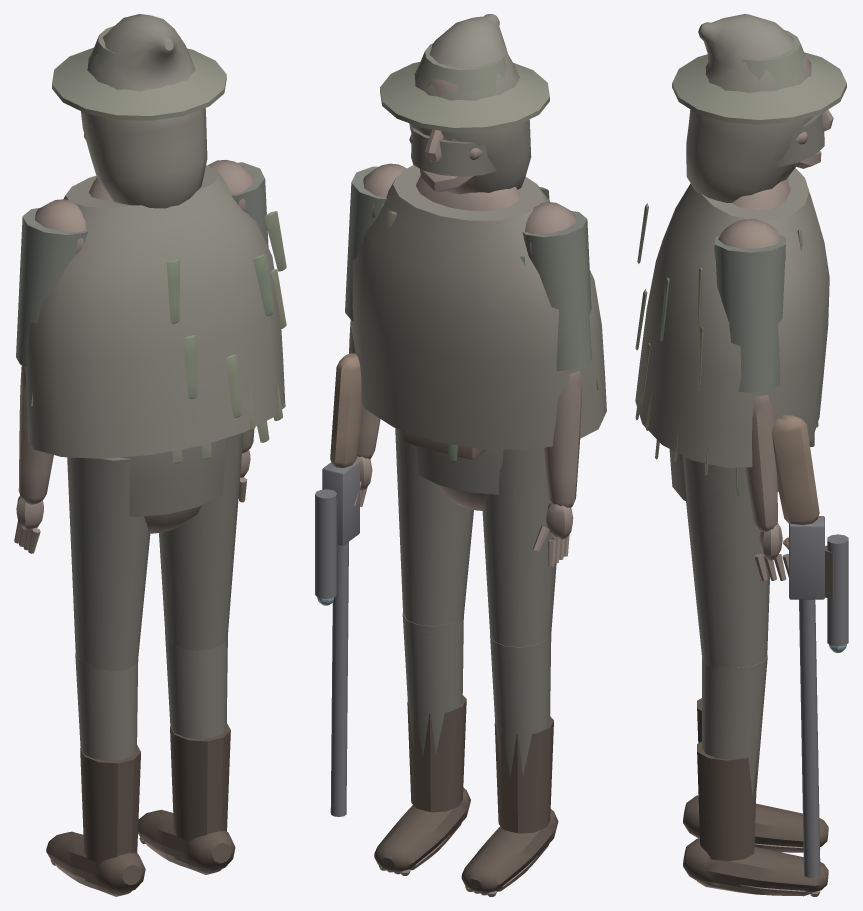
File: en_marksman.gltf
The picture shows the model from 3 angles, left to right: view 1: azimuth 30°, elevation 25°; view 2: azimuth 150°, elevation 25°; view 3: azimuth 270°, elevation 25°; orthographic projection. The views are drawn at different scales.
Visible parts, largest first — view 1: Spine, V1_Hood, ShinL, ShinR, LegL, LegR, V2_Boonie, Hips, V3_Ghillie, ArmL, ForeL, ArmR (+1 smaller); view 2: Spine, ShinL, ShinR, ForeR, LegL, LegR, V1_Hood, V2_Boonie, ArmL, ForeL, Hips, ArmR (+2 smaller); view 3: Spine, ForeR, ShinR, V1_Hood, LegR, V2_Boonie, ArmR, ShinL, V3_Ghillie, Hips, Head.
Boxes of the visible parts, x1=… form: Spine: x1=24, y1=160, x2=285, y2=458; V1_Hood: x1=81, y1=14, x2=207, y2=208; ShinL: x1=46, y1=653, x2=145, y2=896; ShinR: x1=138, y1=632, x2=235, y2=874; LegL: x1=67, y1=457, x2=150, y2=671; LegR: x1=159, y1=432, x2=243, y2=650; V2_Boonie: x1=52, y1=25, x2=226, y2=120; Hips: x1=120, y1=438, x2=225, y2=533; V3_Ghillie: x1=31, y1=211, x2=286, y2=463; ArmL: x1=16, y1=207, x2=87, y2=367; ForeL: x1=14, y1=365, x2=53, y2=553; ArmR: x1=231, y1=162, x2=268, y2=247; Spine: x1=350, y1=163, x2=606, y2=449; ShinL: x1=461, y1=633, x2=558, y2=896; ShinR: x1=374, y1=613, x2=470, y2=875; ForeR: x1=315, y1=322, x2=380, y2=816; LegL: x1=482, y1=448, x2=556, y2=658; LegR: x1=395, y1=428, x2=473, y2=637; V1_Hood: x1=409, y1=14, x2=531, y2=192; V2_Boonie: x1=380, y1=43, x2=549, y2=132; ArmL: x1=522, y1=211, x2=592, y2=370; ForeL: x1=532, y1=370, x2=581, y2=566; Hips: x1=403, y1=427, x2=503, y2=510; ArmR: x1=345, y1=166, x2=386, y2=321; Spine: x1=635, y1=168, x2=829, y2=467; ForeR: x1=745, y1=395, x2=848, y2=877; ShinR: x1=683, y1=655, x2=828, y2=896; V1_Hood: x1=686, y1=14, x2=824, y2=202; LegR: x1=682, y1=456, x2=769, y2=672; V2_Boonie: x1=672, y1=30, x2=846, y2=124; ArmR: x1=715, y1=235, x2=785, y2=392; ShinL: x1=683, y1=658, x2=828, y2=852; V3_Ghillie: x1=635, y1=203, x2=818, y2=496; Hips: x1=669, y1=431, x2=814, y2=501; Head: x1=780, y1=53, x2=833, y2=181.
Size of the model in its own units: 0.5514 by 1.83 by 0.415.
